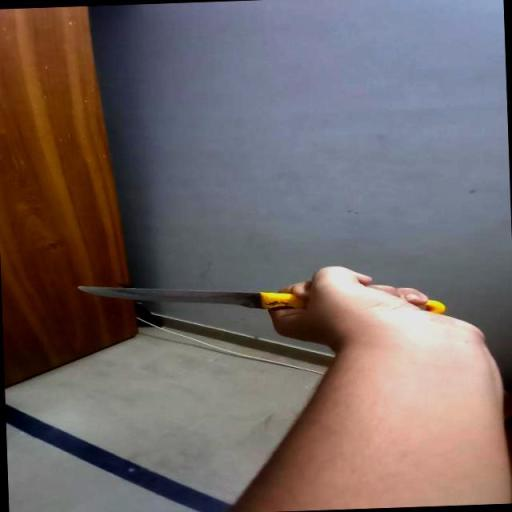knife: (73, 274, 445, 328)
